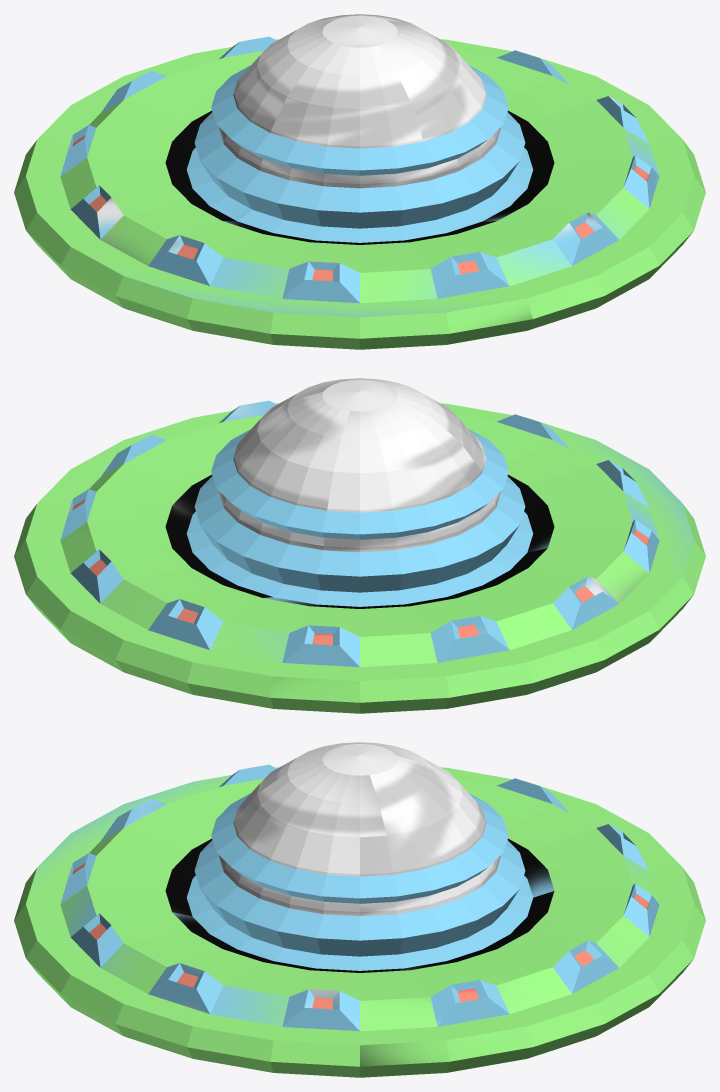
Rendered from UFO.fbx.
3 views of the same model, one above another, from view 1: azimuth 30°, elevation 25°; view 2: azimuth 150°, elevation 25°; view 3: azimuth 270°, elevation 25° (orthographic).
Parts seen in each view (by area): view 1: Sphere; view 2: Sphere; view 3: Sphere.
Boxes of the visible parts, bbox=[...] form: Sphere: bbox=[14, 14, 705, 349]; Sphere: bbox=[14, 378, 705, 713]; Sphere: bbox=[14, 742, 705, 1077].
Size of the model in its own units: 100 by 42 by 100.
